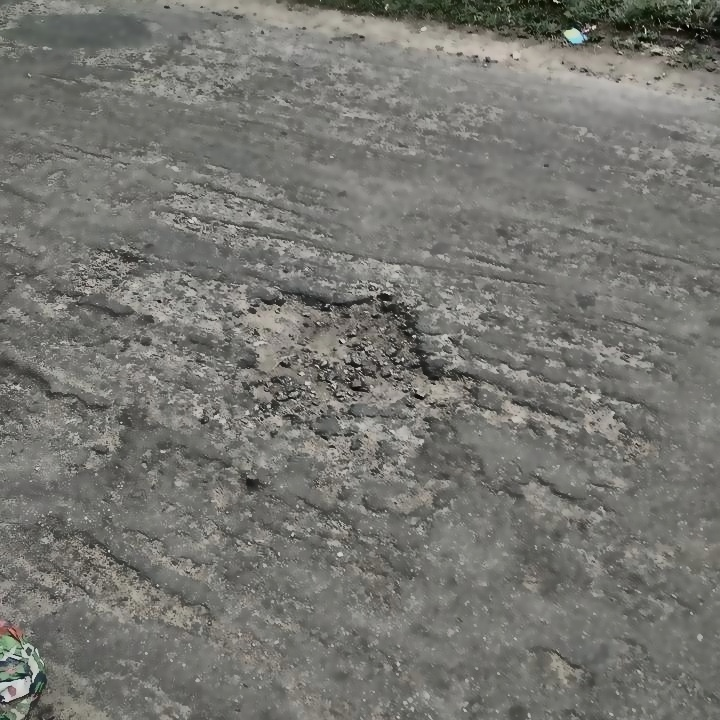pothole: (232, 281, 471, 419)
